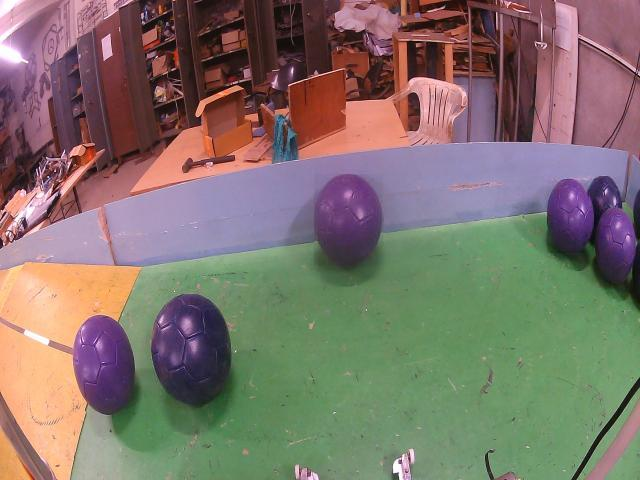jambhalya: (73, 315, 135, 415), (315, 175, 383, 266), (547, 179, 593, 253), (595, 209, 636, 283)
kaalyya: (152, 295, 231, 406), (589, 176, 622, 239)
